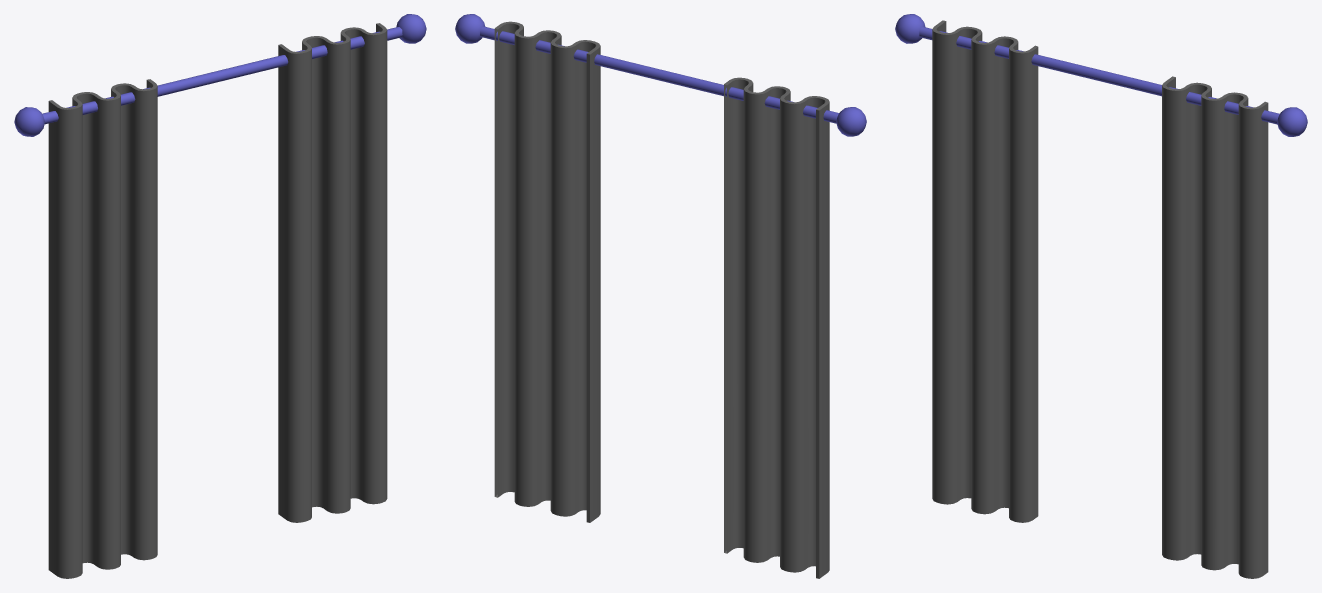
The model's file is SM_blinds_01.fbx.
3 views of the same model, side by side, from view 1: azimuth 30°, elevation 25°; view 2: azimuth 150°, elevation 25°; view 3: azimuth 330°, elevation 25° (orthographic).
Visible parts, largest first — view 1: Line008; view 2: Line008; view 3: Line008.
Part boxes in pixels (bbox=[...]): Line008: bbox=[14, 14, 426, 578]; Line008: bbox=[455, 14, 866, 578]; Line008: bbox=[895, 14, 1307, 578].
Size of the model in its own units: 95.27 by 105 by 6.6.
